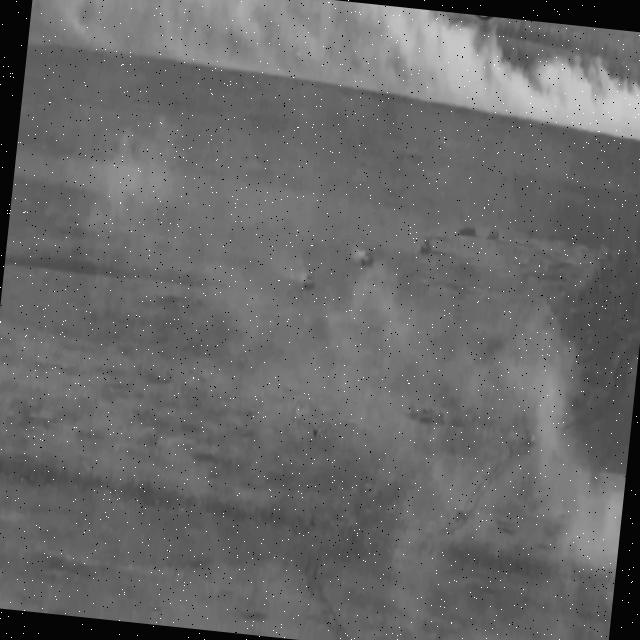AIFV: (359, 251, 376, 271), (303, 270, 318, 291), (419, 239, 434, 257), (526, 432, 538, 450)
APC: (451, 412, 464, 430), (407, 405, 419, 424), (436, 412, 446, 429)
Destroyed: (459, 225, 478, 239), (488, 228, 502, 244)
MBT: (420, 405, 436, 428)
